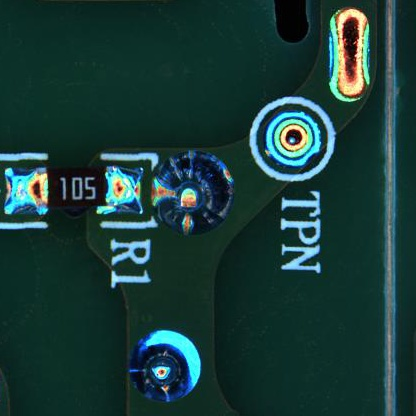spot: (150, 146, 235, 235), (126, 329, 204, 405), (261, 106, 329, 174)
